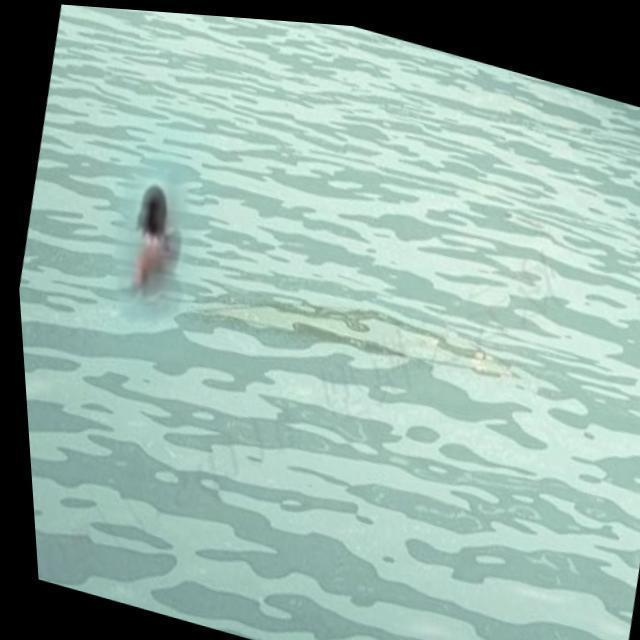swimming: (97, 171, 212, 330)
